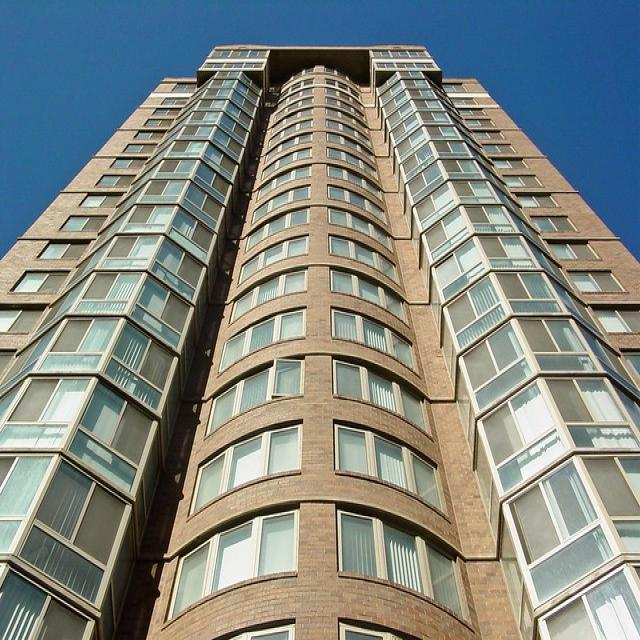Normal_building: (4, 36, 640, 640)
